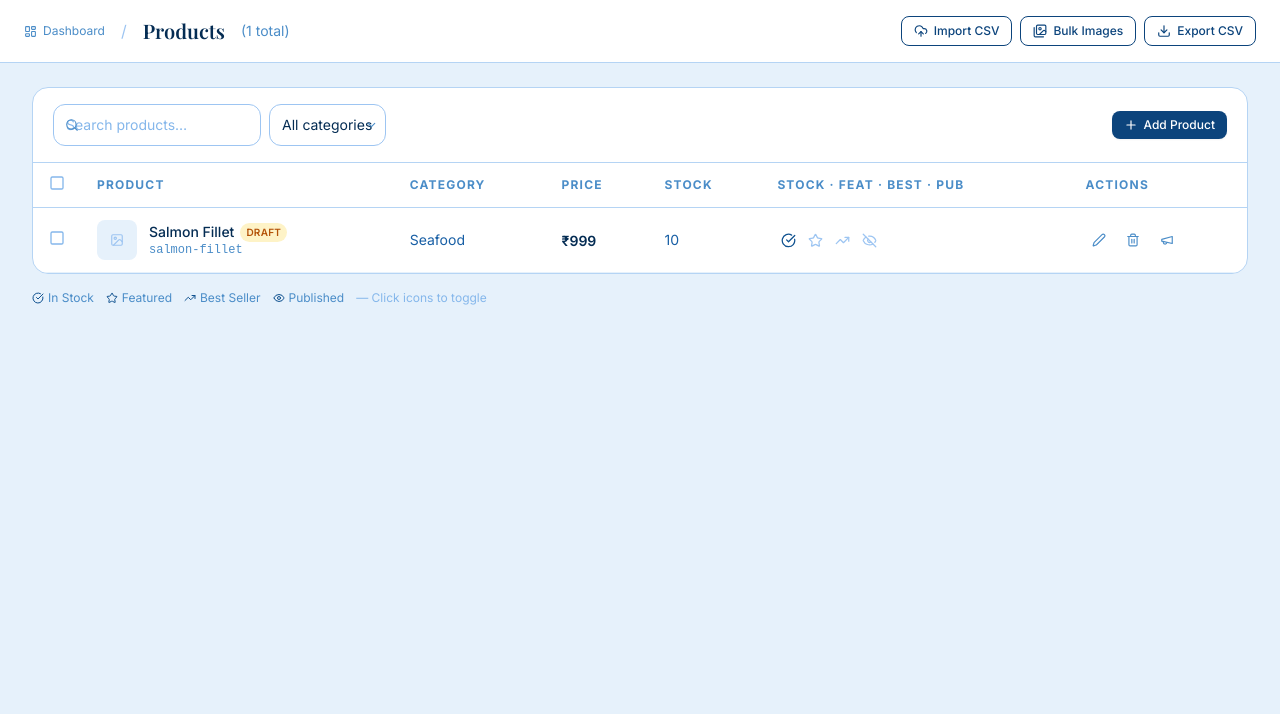
Test: AdminProductsPage › opens the add-product drawer and auto-generates a slug from the name
The image size is (1280, 714).
Expected: the text "Salmon Fillet" is shown, [149,222,234,242]
Click the button "Add Product" at (1169, 125), box [1112,111,1227,139]
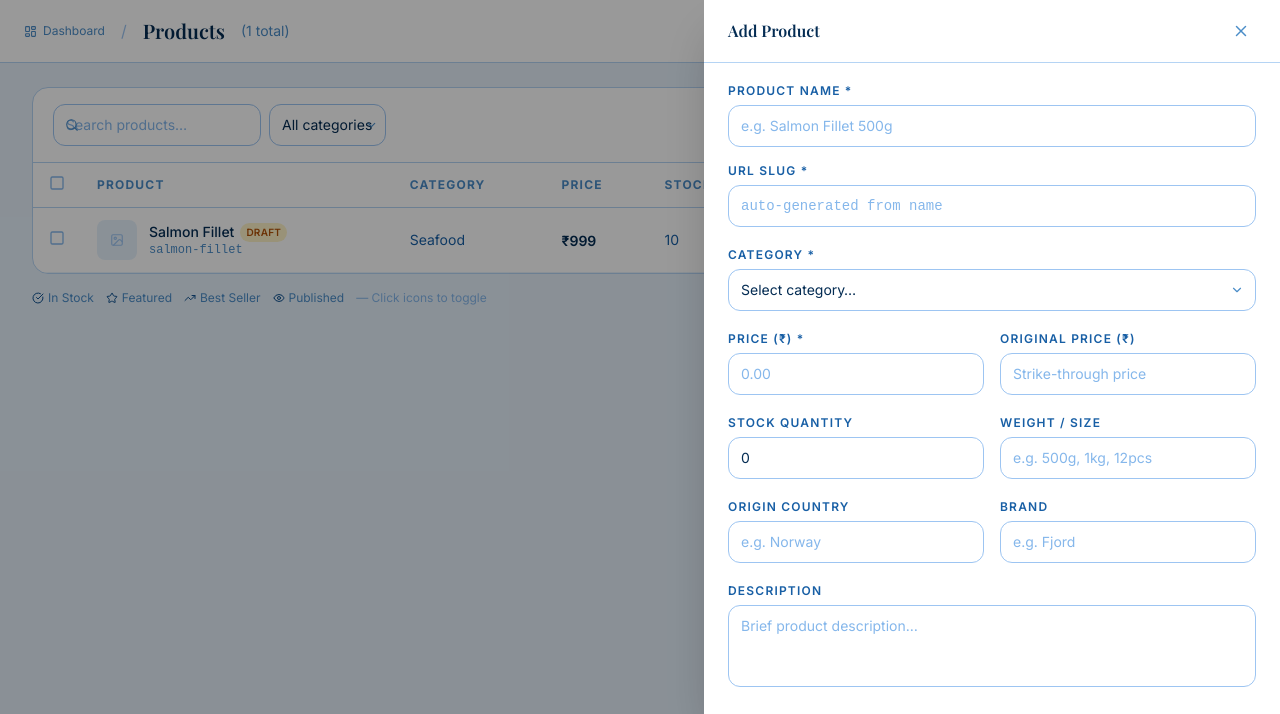
Result: the heading "Add Product" is shown at [728,19,820,43]
Type "Tiger Prawns 1kg" into the field with placeholder "e.g. Salmon Fillet 500g" at (992, 126), box [728,105,1256,147]
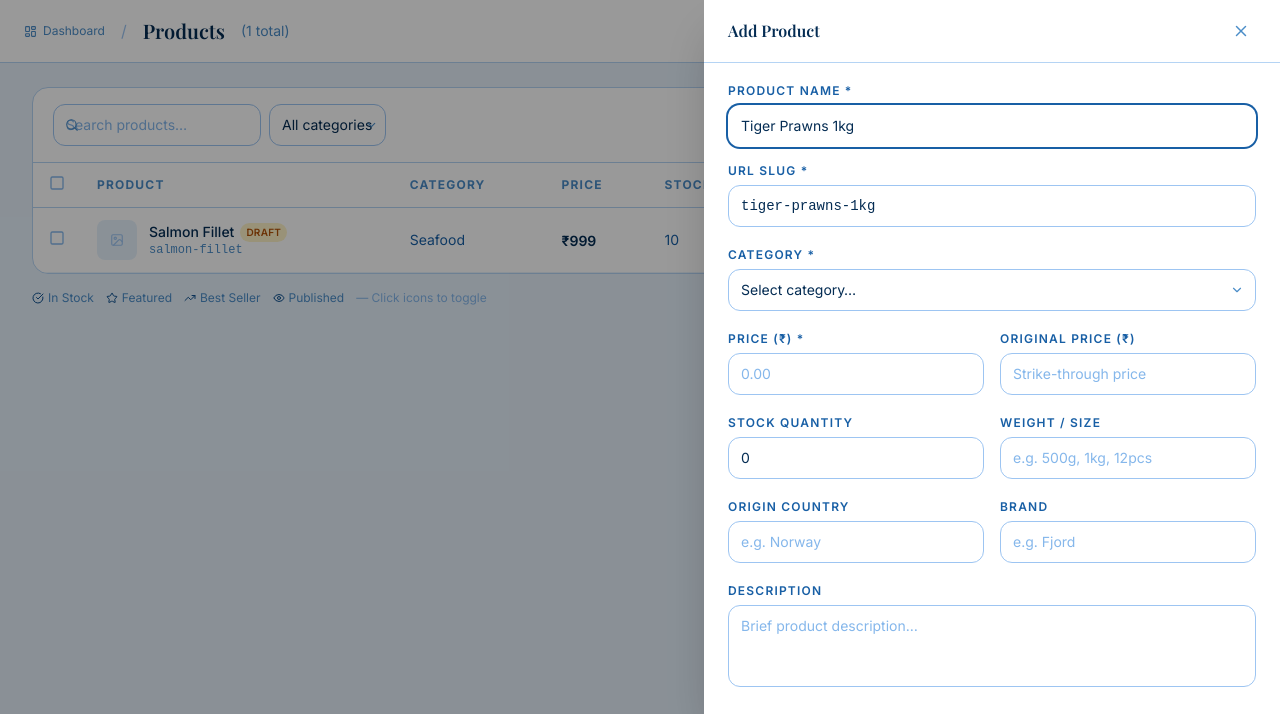
Result: the field with placeholder "auto-generated from name" below "URL Slug *" holds "tiger-prawns-1kg" at [728,185,1256,227]
